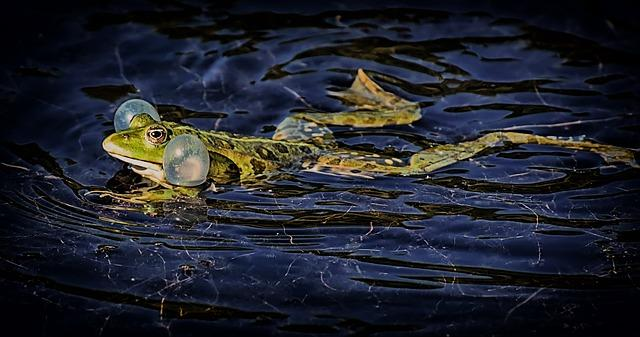Non_Gorille: (76, 11, 487, 265)
